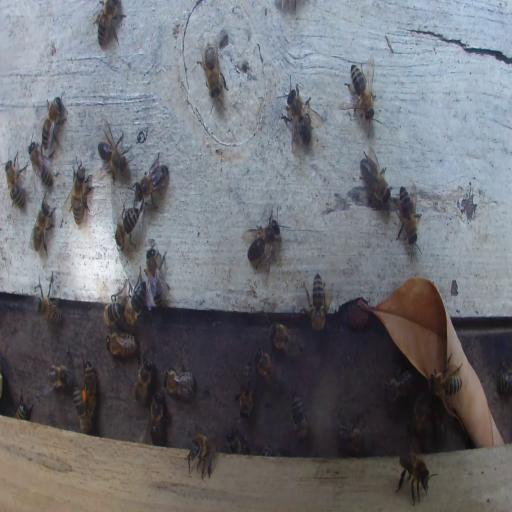nonpollenbee: (281, 80, 312, 152), (244, 210, 280, 270), (96, 122, 132, 181), (135, 151, 169, 211), (395, 452, 434, 504), (343, 61, 376, 122), (359, 147, 392, 208), (68, 156, 92, 227), (303, 270, 329, 332), (145, 244, 170, 308), (91, 0, 125, 47), (40, 96, 67, 153), (396, 183, 421, 244), (198, 44, 224, 102), (31, 195, 55, 255), (35, 277, 63, 327), (187, 431, 216, 478), (28, 138, 53, 188), (114, 204, 140, 251), (5, 151, 25, 212), (336, 416, 366, 456), (123, 277, 147, 326), (235, 359, 254, 418), (384, 368, 414, 403), (163, 366, 195, 398), (132, 356, 153, 404), (290, 392, 309, 442), (148, 390, 164, 444), (430, 372, 463, 398), (106, 332, 137, 359), (84, 360, 98, 417), (411, 396, 428, 438), (255, 347, 273, 386), (46, 364, 72, 389), (225, 429, 250, 454), (104, 295, 123, 326), (269, 322, 289, 350), (499, 363, 511, 395), (15, 402, 32, 419)
pollenbee: (73, 383, 93, 432)
